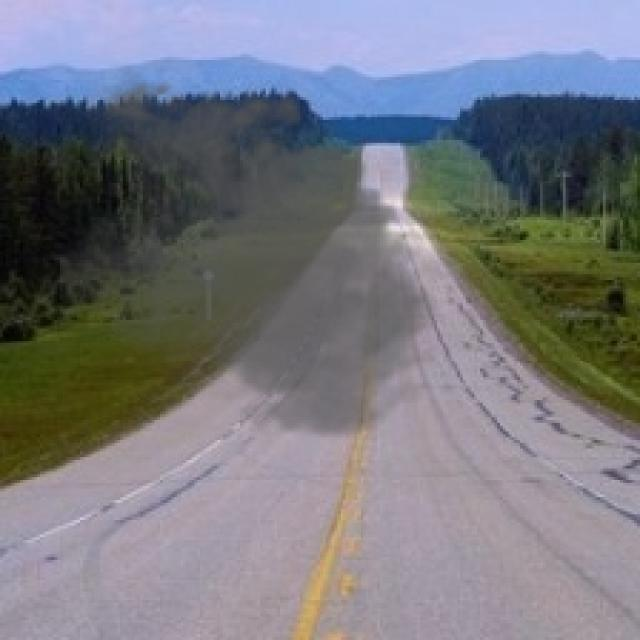smoke: (60, 68, 457, 446)
